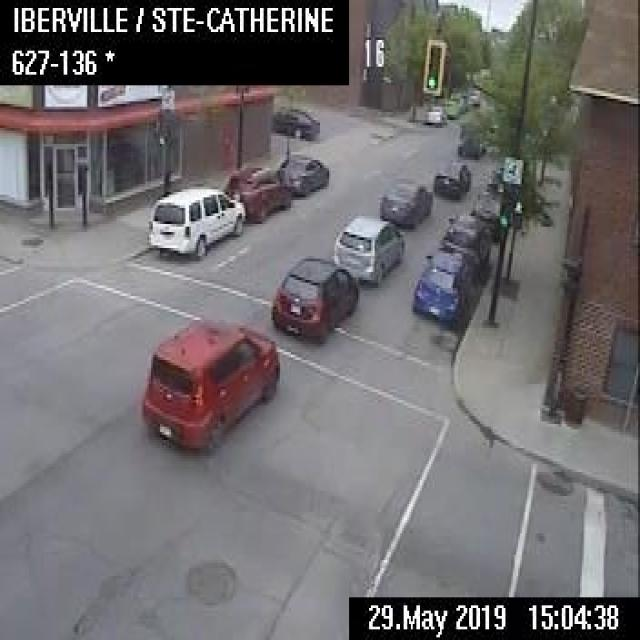vehicle: (140, 316, 282, 451), (146, 181, 247, 259), (269, 255, 359, 339), (333, 211, 403, 287), (409, 249, 470, 328), (218, 162, 288, 222), (438, 211, 488, 268), (377, 178, 433, 226), (274, 150, 328, 196), (271, 103, 321, 140), (432, 155, 470, 198), (470, 189, 504, 237), (454, 125, 486, 156), (422, 102, 444, 123), (439, 94, 455, 118), (464, 84, 480, 107), (450, 90, 466, 109)
